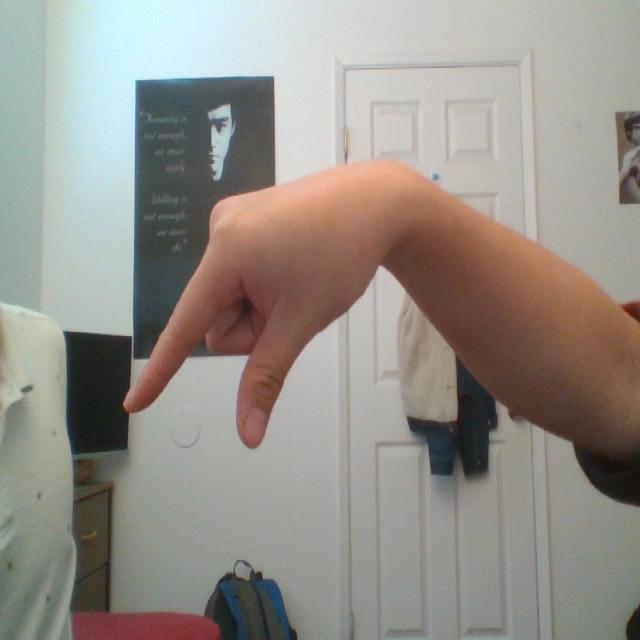Q: (103, 99, 466, 490)
